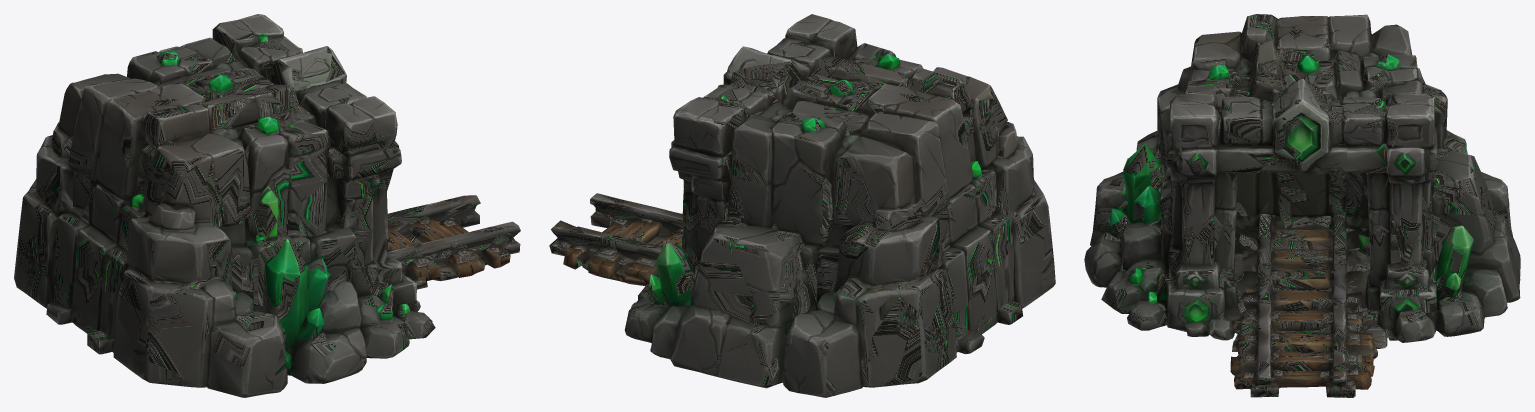
The model's file is mine_tunnel_02.glb.
3 renders of one model, left to right at view 1: azimuth 30°, elevation 25°; view 2: azimuth 150°, elevation 25°; view 3: azimuth 270°, elevation 25°, orthographic. The views are drawn at different scales.
Parts seen in each view (by area): view 1: tripo_node_ccf8784f-fa35-4504-a713-dab965cb48e1; view 2: tripo_node_ccf8784f-fa35-4504-a713-dab965cb48e1; view 3: tripo_node_ccf8784f-fa35-4504-a713-dab965cb48e1.
Part boxes in pixels (x1,y1,x2,y2): tripo_node_ccf8784f-fa35-4504-a713-dab965cb48e1: [14, 14, 520, 397]; tripo_node_ccf8784f-fa35-4504-a713-dab965cb48e1: [549, 14, 1055, 397]; tripo_node_ccf8784f-fa35-4504-a713-dab965cb48e1: [1084, 14, 1520, 397].
Bounding box in the file's own units: 0.9852 × 0.5131 × 0.9035.
Materials: 1 (1 with a texture image).
